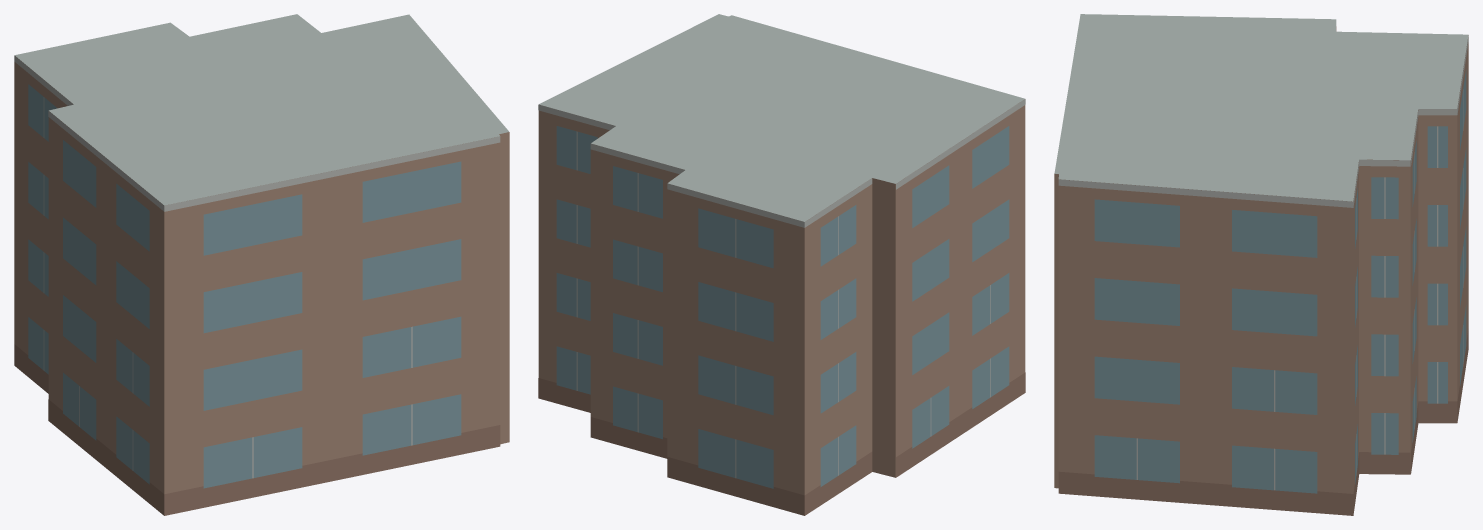
Rendered from survey-upis-32992269.glb.
3 views of the same model, side by side, from view 1: azimuth 30°, elevation 25°; view 2: azimuth 150°, elevation 25°; view 3: azimuth 270°, elevation 25° (orthographic). The views are drawn at different scales.
Visible parts, largest first — view 1: survey-upis-32992269.tmp; view 2: survey-upis-32992269.tmp; view 3: survey-upis-32992269.tmp.
Part boxes in pixels (x1,y1,x2,y2): survey-upis-32992269.tmp: (14, 14, 509, 515); survey-upis-32992269.tmp: (538, 14, 1025, 515); survey-upis-32992269.tmp: (1054, 14, 1468, 515).
Bounding box in the file's own units: 15.37 × 12 × 14.34.
